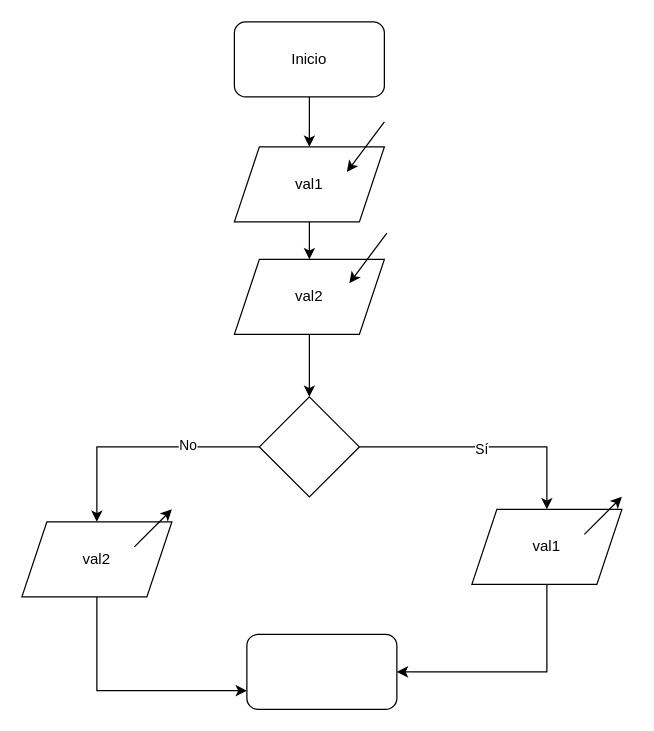
The diagram is 654 pixels wide and 731 high, and some of its shapes have lost their labels. Each missing label, with the centre of its shape:
Fin: the point at 321,671
val1 > val2: the point at 308,446
